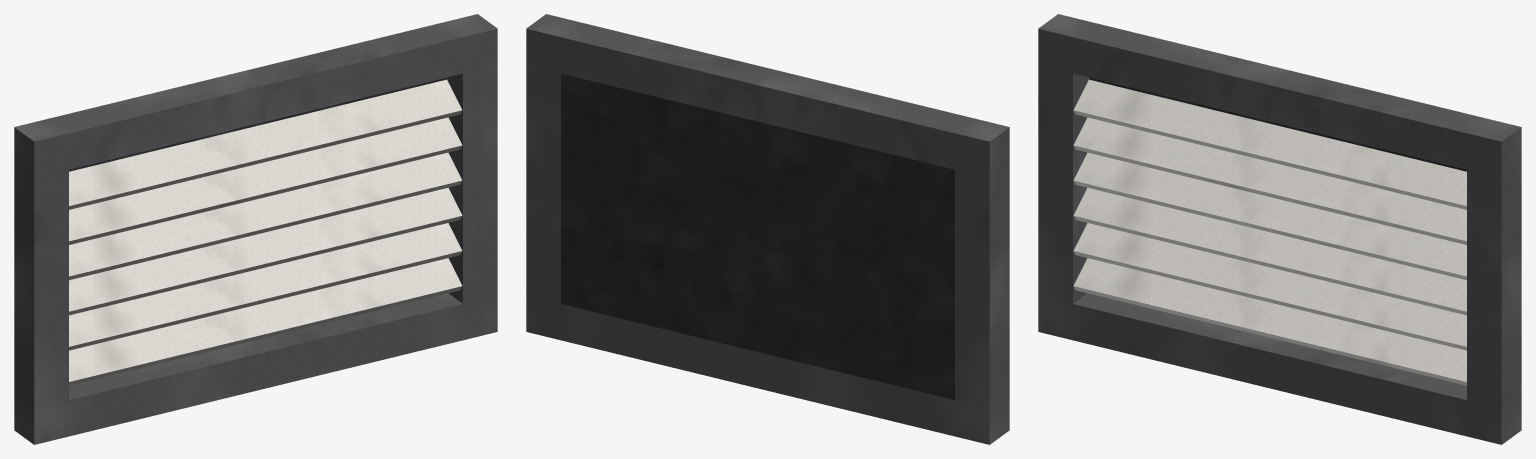
File: vent.glb
The picture shows the model from 3 angles, left to right: view 1: azimuth 30°, elevation 25°; view 2: azimuth 150°, elevation 25°; view 3: azimuth 330°, elevation 25°; orthographic projection.
Parts seen in each view (by area): view 1: Vent_white, Vent_gunmetal, Vent_dark; view 2: Vent_dark, Vent_gunmetal; view 3: Vent_white, Vent_gunmetal, Vent_dark.
Boxes of the visible parts, x1,y1,x2,y2 form: Vent_white: [69, 79, 462, 385]; Vent_gunmetal: [14, 14, 497, 444]; Vent_dark: [69, 78, 446, 171]; Vent_dark: [561, 73, 954, 399]; Vent_gunmetal: [526, 14, 1009, 444]; Vent_white: [1073, 79, 1466, 385]; Vent_gunmetal: [1038, 14, 1521, 444]; Vent_dark: [1089, 78, 1466, 171].
Bounding box in the file's own units: 0.8 × 0.5 × 0.06.
3 materials, 3 textured.
